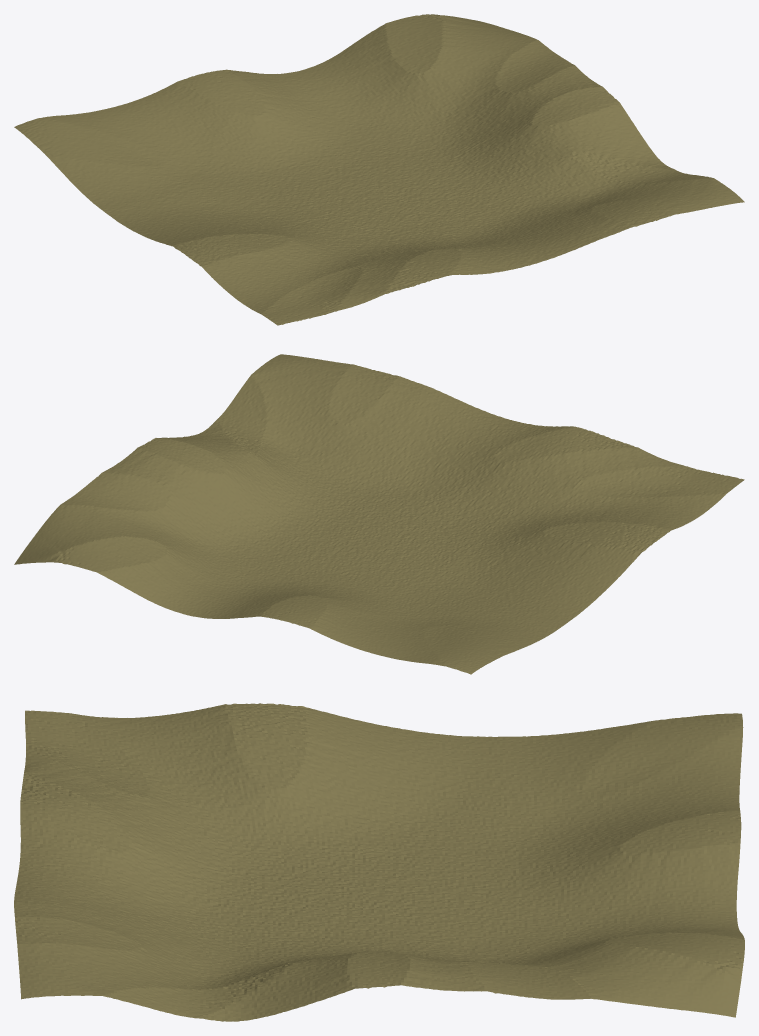
Rendered from Ground1.fbx.
The picture shows the model from 3 angles, top to bottom: view 1: azimuth 30°, elevation 25°; view 2: azimuth 150°, elevation 25°; view 3: azimuth 270°, elevation 25°; orthographic projection. The views are drawn at different scales.
Parts seen in each view (by area): view 1: Cube; view 2: Cube; view 3: Cube.
Part boxes in pixels (bbox=[...]): Cube: bbox=[14, 14, 744, 325]; Cube: bbox=[14, 354, 744, 674]; Cube: bbox=[14, 703, 744, 1021].
Size of the model in its own units: 12540 by 1219 by 12548.
